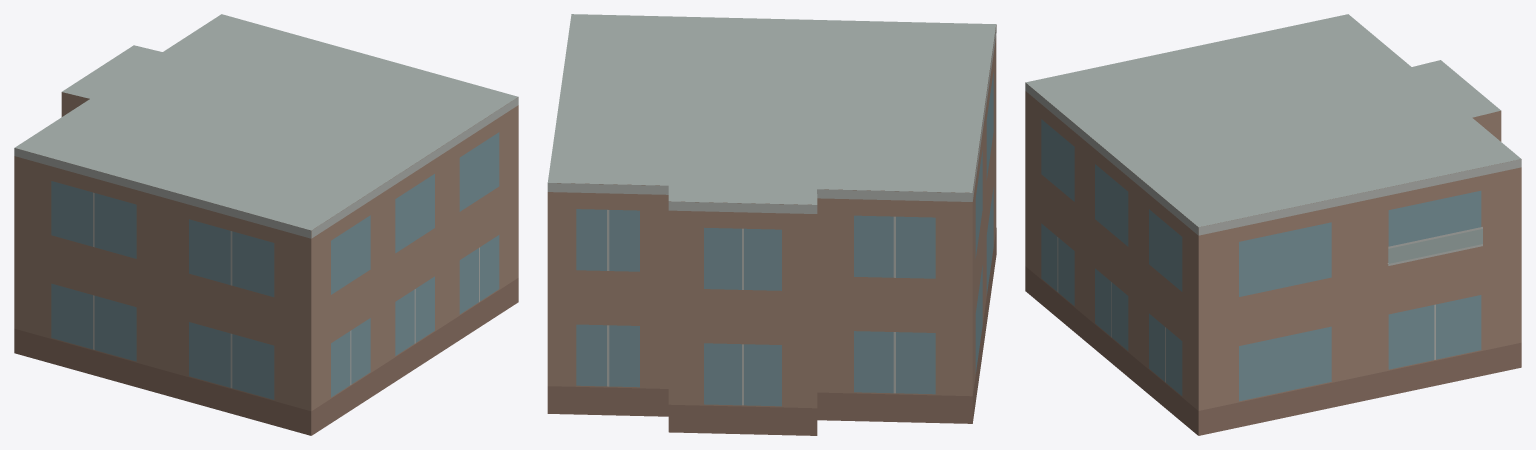
File: survey-upis-33016937.glb
The picture shows the model from 3 angles, left to right: view 1: azimuth 30°, elevation 25°; view 2: azimuth 150°, elevation 25°; view 3: azimuth 270°, elevation 25°; orthographic projection. The views are drawn at different scales.
Parts seen in each view (by area): view 1: survey-upis-33016937.tmp; view 2: survey-upis-33016937.tmp; view 3: survey-upis-33016937.tmp.
Boxes of the visible parts, <box> form: survey-upis-33016937.tmp: <box>14,14,518,435</box>; survey-upis-33016937.tmp: <box>547,14,996,435</box>; survey-upis-33016937.tmp: <box>1025,14,1521,435</box>.
Bounding box in the file's own units: 13.39 × 6.1 × 13.16.
